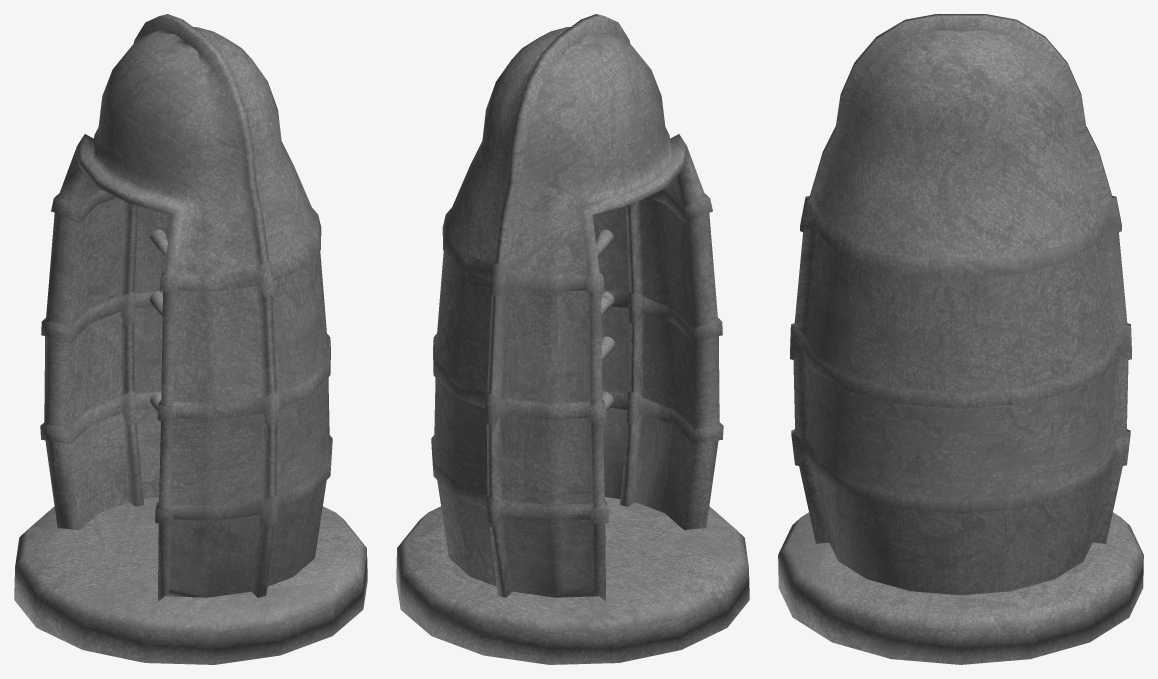
The model's file is SM_IronMaiden.fbx.
3 views of the same model, side by side, from view 1: azimuth 30°, elevation 25°; view 2: azimuth 150°, elevation 25°; view 3: azimuth 270°, elevation 25° (orthographic). The views are drawn at different scales.
Visible parts, largest first — view 1: SM_IronMaiden_LOD0; view 2: SM_IronMaiden_LOD0; view 3: SM_IronMaiden_LOD0.
Part boxes in pixels (<box>): SM_IronMaiden_LOD0: <box>14,14,367,664</box>; SM_IronMaiden_LOD0: <box>396,14,749,664</box>; SM_IronMaiden_LOD0: <box>778,14,1143,664</box>.
Bounding box in the file's own units: 156 × 157 × 271.
1 material, 1 textured.
